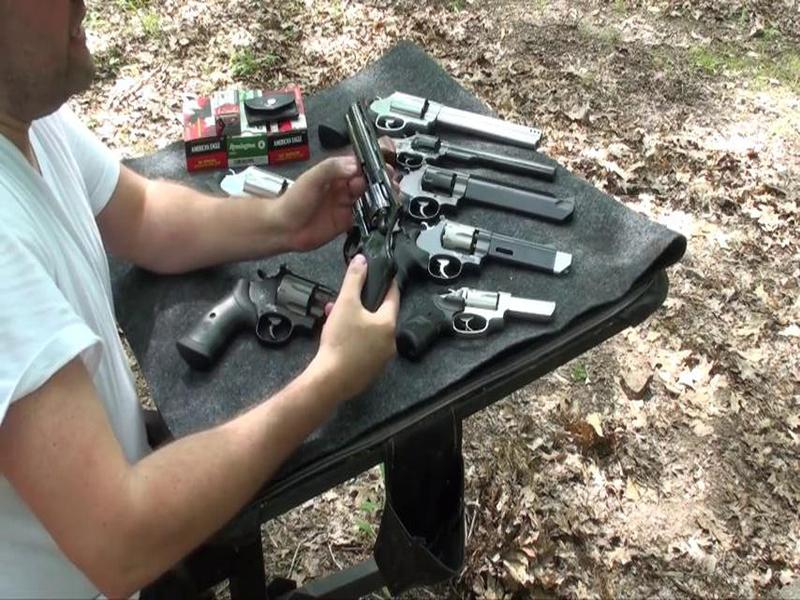Revolver: (314, 94, 430, 338)
